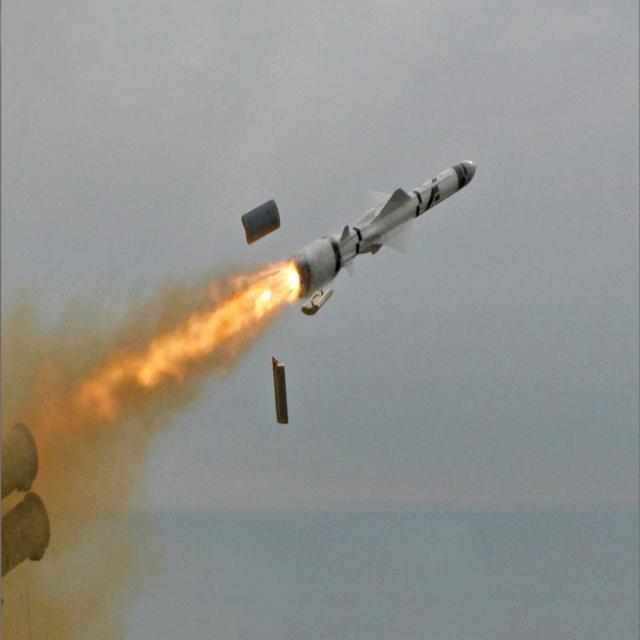missile: (283, 160, 481, 331)
